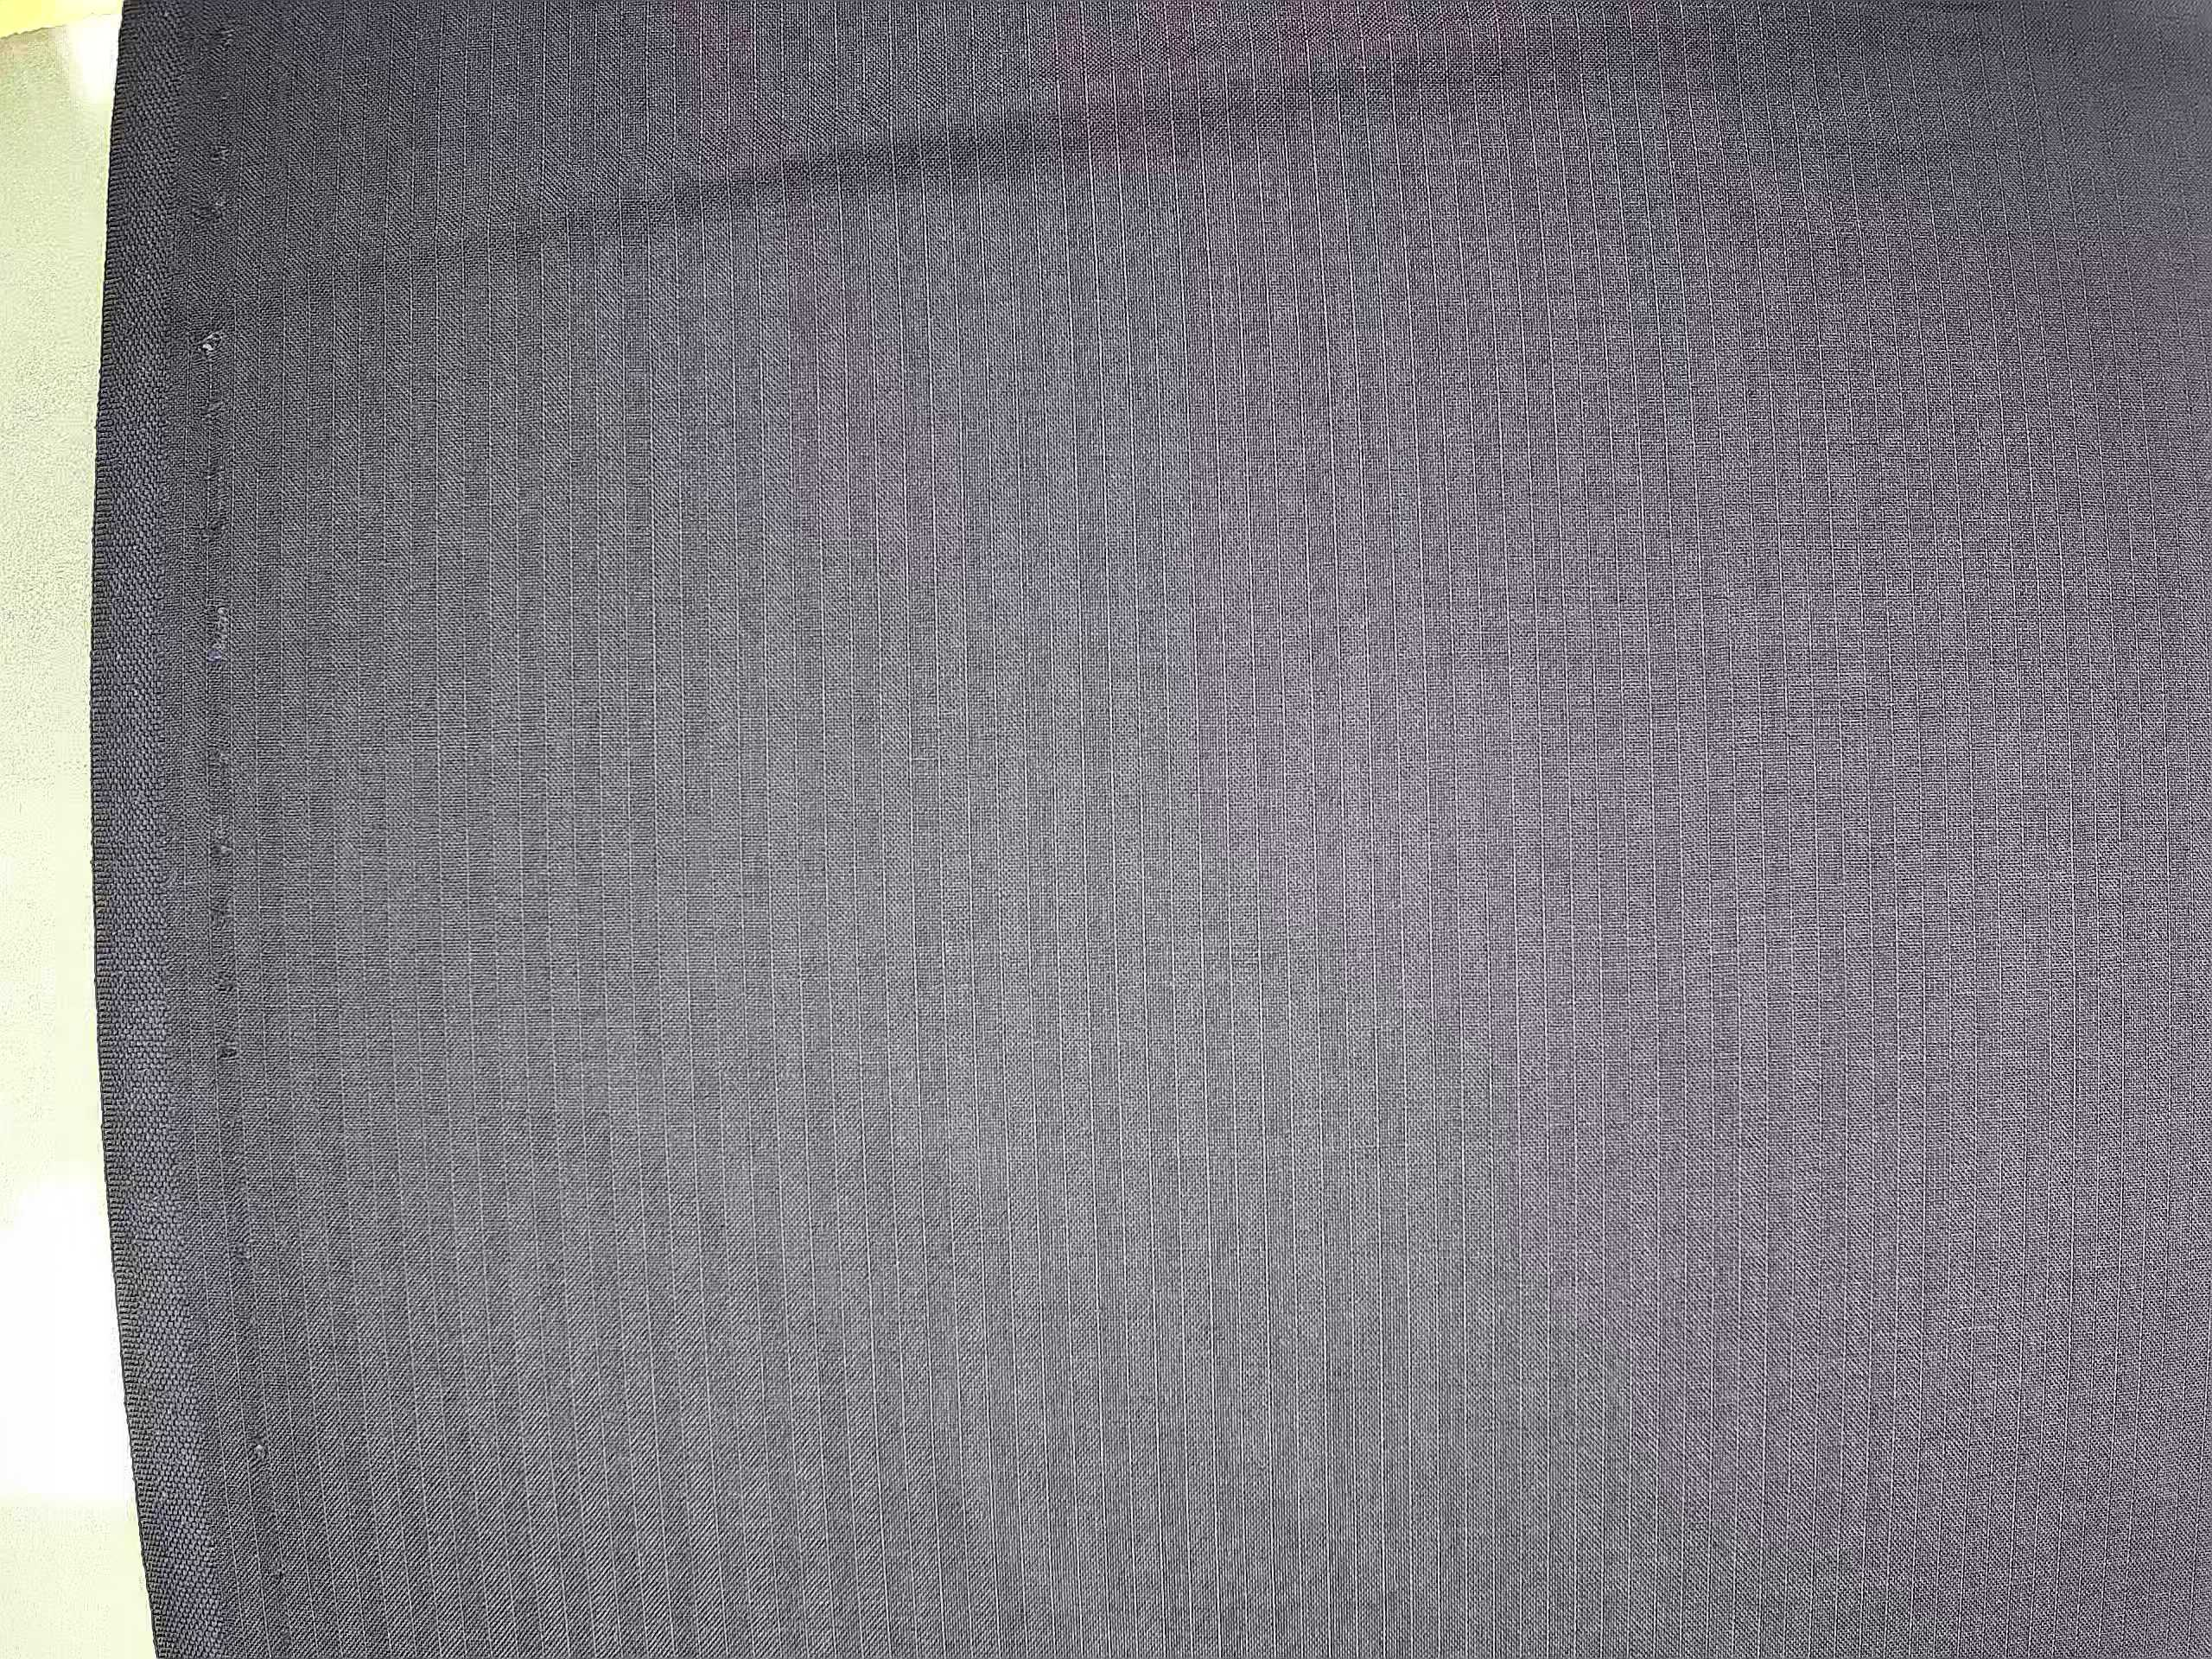puncture-hole: (179, 19, 314, 1598)
